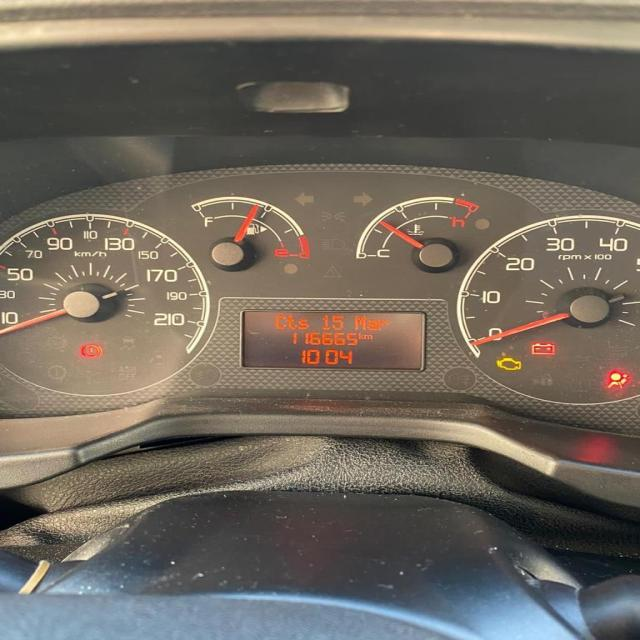odometer: (238, 309, 426, 372)
